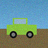vehicle: (7, 18, 37, 38)
